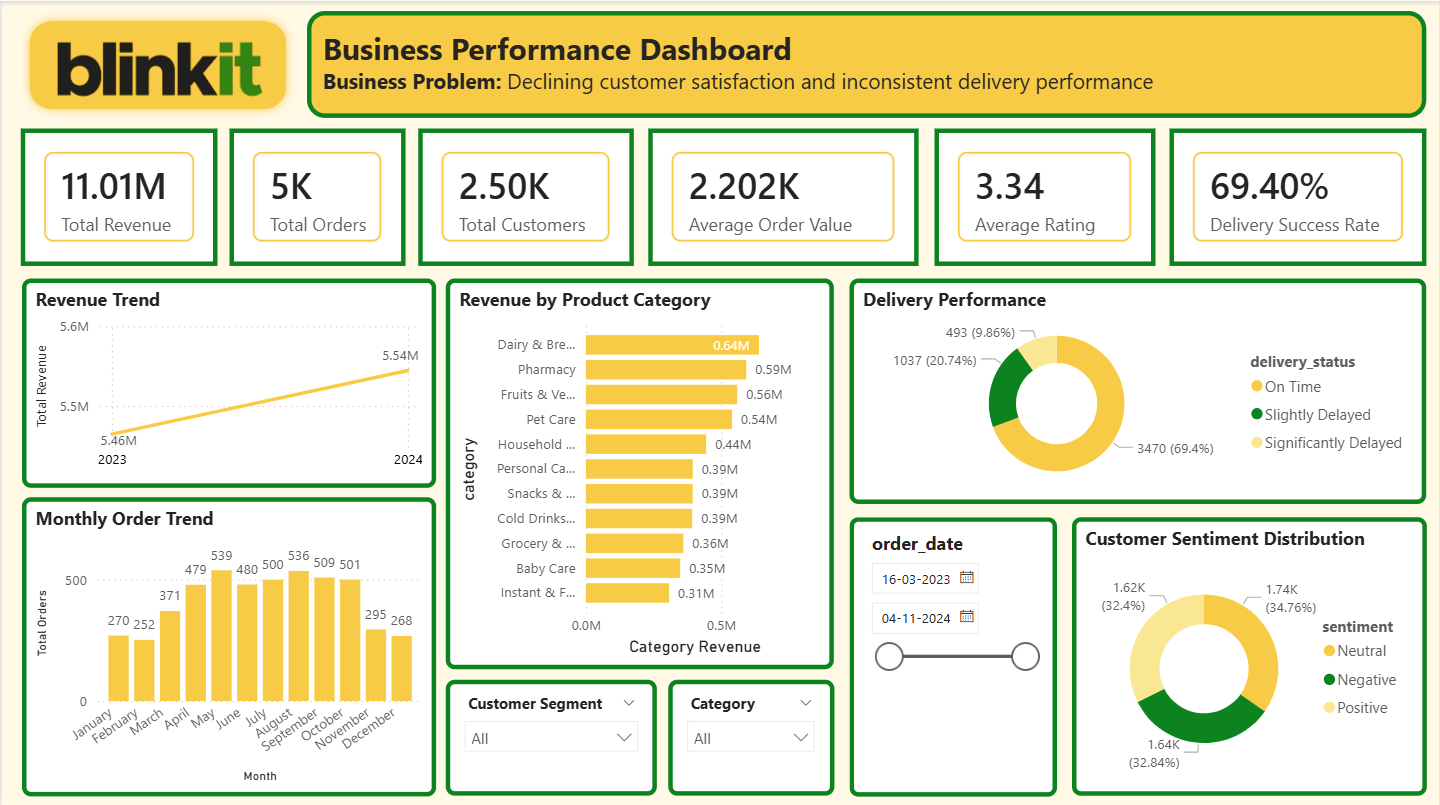

What the dashboard file says about the page in this screenshot:
{"tool":"powerbi","page":{"name":"Business Performance Dashboard","canvas":[1280,720],"ordinal":0},"visuals":[{"type":"textbox","box":[272.1,9.3,996.5,95.3],"z":0},{"type":"shape","box":[16.3,10.5,244.2,94.2],"z":1000},{"type":"image","box":[23.3,18.6,230.2,77.9],"z":2000},{"type":"cardVisual","fields":{"Data":["blinkit_customer_feedback.Total Revenue"]},"box":[16.3,114,175.6,122.1],"z":3000},{"type":"cardVisual","fields":{"Data":["blinkit_customer_feedback.Delivery Success Rate"]},"box":[1039.5,114,229.1,122.1],"z":4000},{"type":"cardVisual","fields":{"Data":["blinkit_customer_feedback.Average Rating"]},"box":[830.2,114,196.5,122.1],"z":5000},{"type":"cardVisual","fields":{"Data":["blinkit_customer_feedback.Total Orders"]},"box":[202.3,114,157,122.1],"z":6000},{"type":"cardVisual","fields":{"Data":["blinkit_customer_feedback.Average Order Value"]},"box":[575.6,114,240.7,122.1],"z":7000},{"type":"cardVisual","fields":{"Data":["blinkit_customer_feedback.Total Customers"]},"box":[370.9,114,191.9,122.1],"z":8000},{"type":"lineChart","title":"Revenue Trend","fields":{"Category":["blinkit_orders.order_date.Variation.Date Hierarchy.Year","blinkit_orders.order_date.Variation.Date Hierarchy.Month"],"Y":["blinkit_customer_feedback.Total Revenue"]},"box":[17.4,247.7,368.6,186],"z":9000},{"type":"clusteredColumnChart","title":"Monthly Order Trend","fields":{"Category":["blinkit_orders.order_date.Variation.Date Hierarchy.Year","blinkit_orders.order_date.Variation.Date Hierarchy.Quarter","blinkit_orders.order_date.Variation.Date Hierarchy.Month"],"Y":["blinkit_customer_feedback.Total Orders"]},"box":[17.4,441.9,368.6,266.3],"z":10000},{"type":"clusteredBarChart","title":"Revenue by Product Category","fields":{"Category":["blinkit_products.category"],"Y":["blinkit_customer_feedback.Category Revenue"]},"box":[395.3,247.7,345.3,347.7],"z":11000},{"type":"donutChart","title":"Delivery Performance","fields":{"Category":["blinkit_orders.delivery_status"],"Y":["blinkit_customer_feedback.Total Orders"]},"box":[754.7,247.7,514,201.2],"z":12000},{"type":"donutChart","title":"Customer Sentiment Distribution","fields":{"Category":["blinkit_customer_feedback.sentiment"],"Y":["CountNonNull(blinkit_customer_feedback.feedback_id)"]},"box":[952.9,459.7,316.1,248.2],"z":13000},{"type":"slicer","fields":{"Values":["blinkit_orders.order_date"]},"box":[754.7,459.3,184.9,248.8],"z":14000},{"type":"slicer","fields":{"Values":["blinkit_customers.customer_segment"]},"box":[395.3,604.7,188.4,103.5],"z":15000},{"type":"slicer","fields":{"Values":["blinkit_products.category"]},"box":[593,604.7,147.7,103.5],"z":16000}]}

Visuals, with their boxes in screenshot pixels (x1, y1, x2, y2), scaled from the page's 1280x720 canvas onto the 1440x805 screenshot:
textbox: (x1=306, y1=10, x2=1427, y2=117)
shape: (x1=18, y1=12, x2=293, y2=117)
image: (x1=26, y1=21, x2=285, y2=108)
cardVisual - blinkit_customer_feedback.Total Revenue: (x1=18, y1=127, x2=216, y2=264)
cardVisual - blinkit_customer_feedback.Delivery Success Rate: (x1=1169, y1=127, x2=1427, y2=264)
cardVisual - blinkit_customer_feedback.Average Rating: (x1=934, y1=127, x2=1155, y2=264)
cardVisual - blinkit_customer_feedback.Total Orders: (x1=228, y1=127, x2=404, y2=264)
cardVisual - blinkit_customer_feedback.Average Order Value: (x1=648, y1=127, x2=918, y2=264)
cardVisual - blinkit_customer_feedback.Total Customers: (x1=417, y1=127, x2=633, y2=264)
"Revenue Trend" lineChart: (x1=20, y1=277, x2=434, y2=485)
"Monthly Order Trend" clusteredColumnChart: (x1=20, y1=494, x2=434, y2=792)
"Revenue by Product Category" clusteredBarChart: (x1=445, y1=277, x2=833, y2=666)
"Delivery Performance" donutChart: (x1=849, y1=277, x2=1427, y2=502)
"Customer Sentiment Distribution" donutChart: (x1=1072, y1=514, x2=1428, y2=791)
slicer - blinkit_orders.order_date: (x1=849, y1=514, x2=1057, y2=792)
slicer - blinkit_customers.customer_segment: (x1=445, y1=676, x2=657, y2=792)
slicer - blinkit_products.category: (x1=667, y1=676, x2=833, y2=792)
